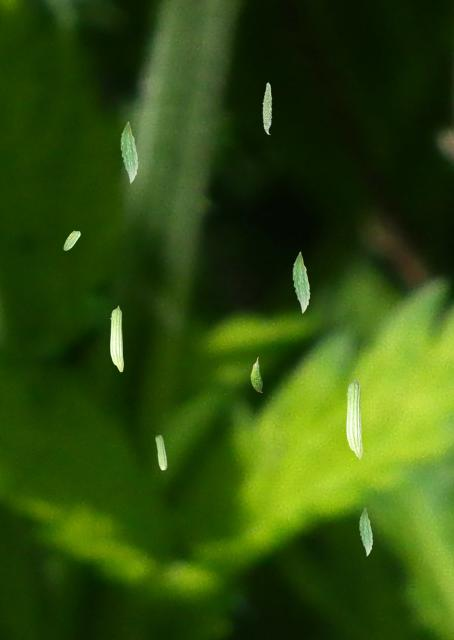ampalaya: (345, 378, 362, 459), (292, 251, 310, 313), (120, 121, 138, 183), (109, 305, 124, 372), (359, 507, 373, 556), (262, 82, 272, 135), (250, 356, 262, 393), (155, 434, 167, 470), (63, 230, 80, 251)
